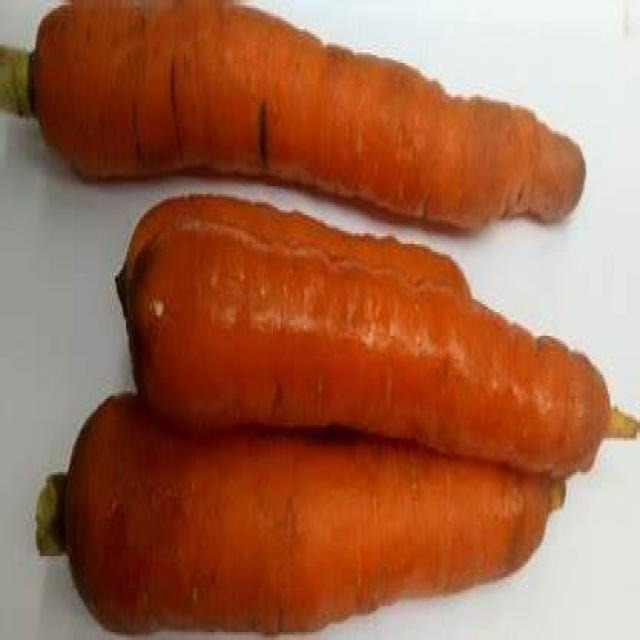Carrot: (124, 218, 638, 484), (50, 382, 573, 634), (33, 0, 592, 227)
